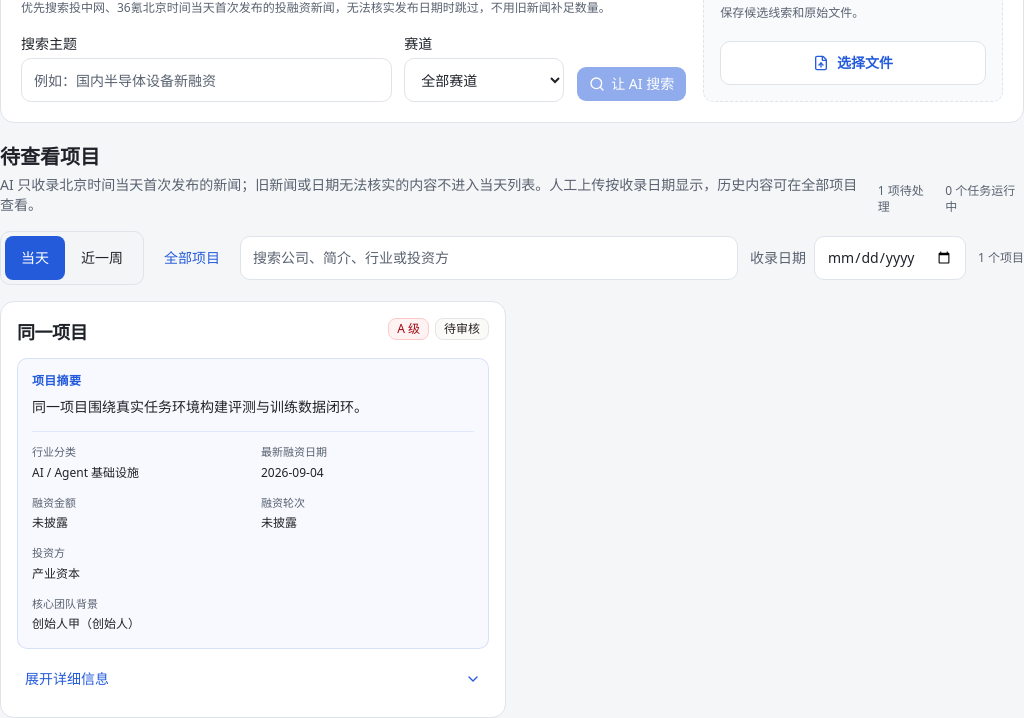
Test: keeps the comprehensive card when it duplicates a legacy project signal
This screenshot has width=1024, height=718.
(page scrolled)
Expected: the number of headings "同一项目" is 1, [17, 318, 87, 346]
Expected: the text "Agent 评测与训练数据平台" is not shown
What coordinates should you click on to do the following:
click the button with aria-label "查看同一项目项目详情"
I would click on:
 (67, 678)
Its box is [17, 657, 489, 701].
(page scrolled)
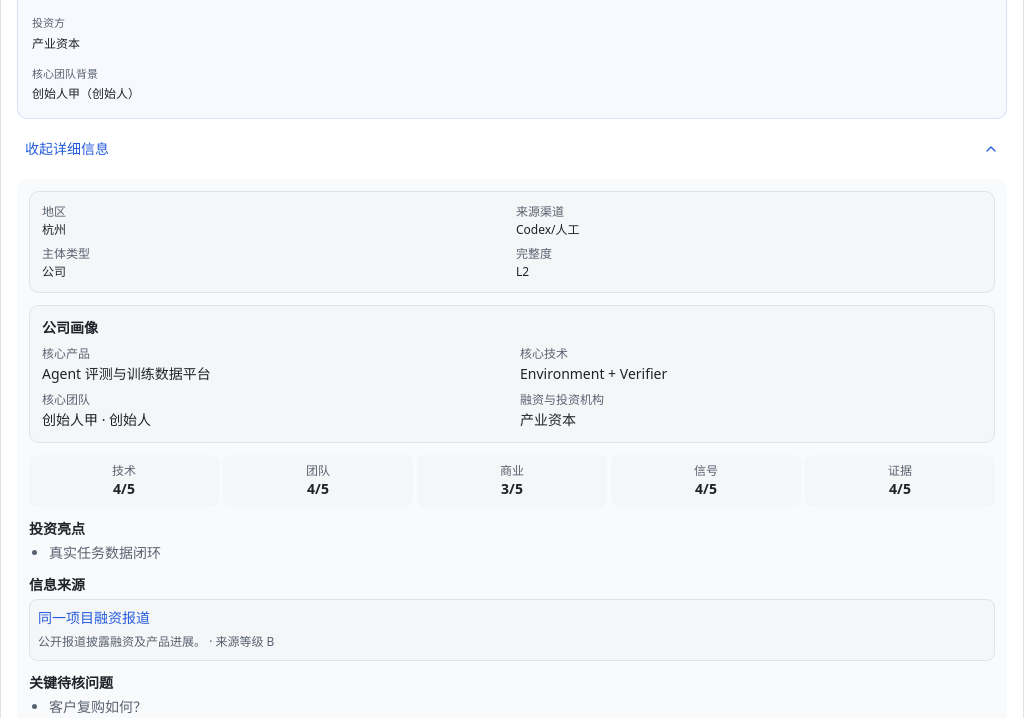
Now the text "Agent 评测与训练数据平台" is shown, box [42, 364, 211, 383]
